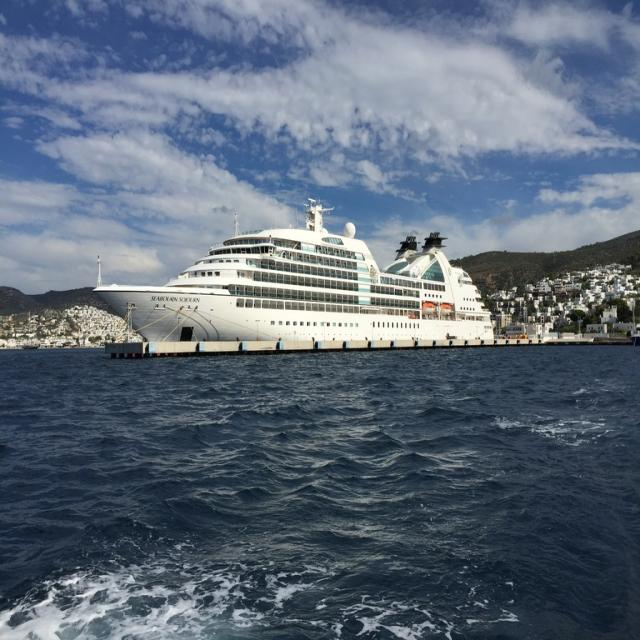Boat: (96, 192, 490, 355)
